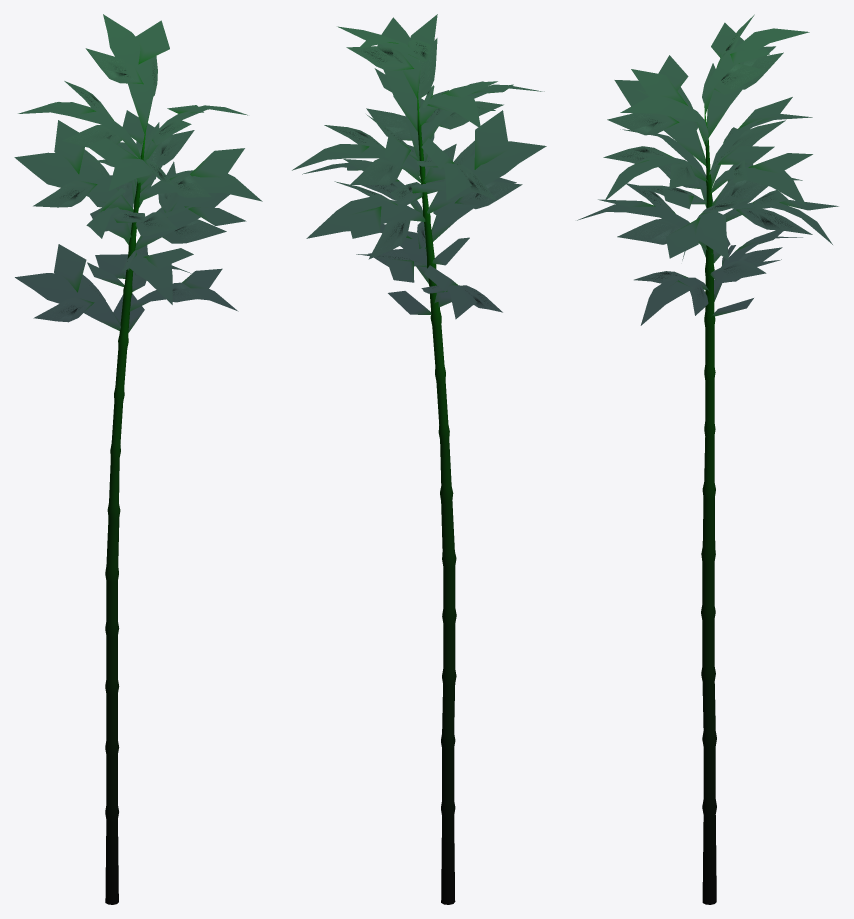
File: TSI_Bamboo_05A.fbx
The picture shows the model from 3 angles, left to right: view 1: azimuth 30°, elevation 25°; view 2: azimuth 150°, elevation 25°; view 3: azimuth 270°, elevation 25°; orthographic projection. The views are drawn at different scales.
Visible parts, largest first — view 1: TSI_Bamboo_05A_LOD0; view 2: TSI_Bamboo_05A_LOD0; view 3: TSI_Bamboo_05A_LOD0.
Boxes of the visible parts, x1,y1,x2,y2 form: TSI_Bamboo_05A_LOD0: (14, 14, 262, 904); TSI_Bamboo_05A_LOD0: (292, 14, 546, 904); TSI_Bamboo_05A_LOD0: (577, 14, 838, 904).
Bounding box in the file's own units: 185 × 752 × 203.
